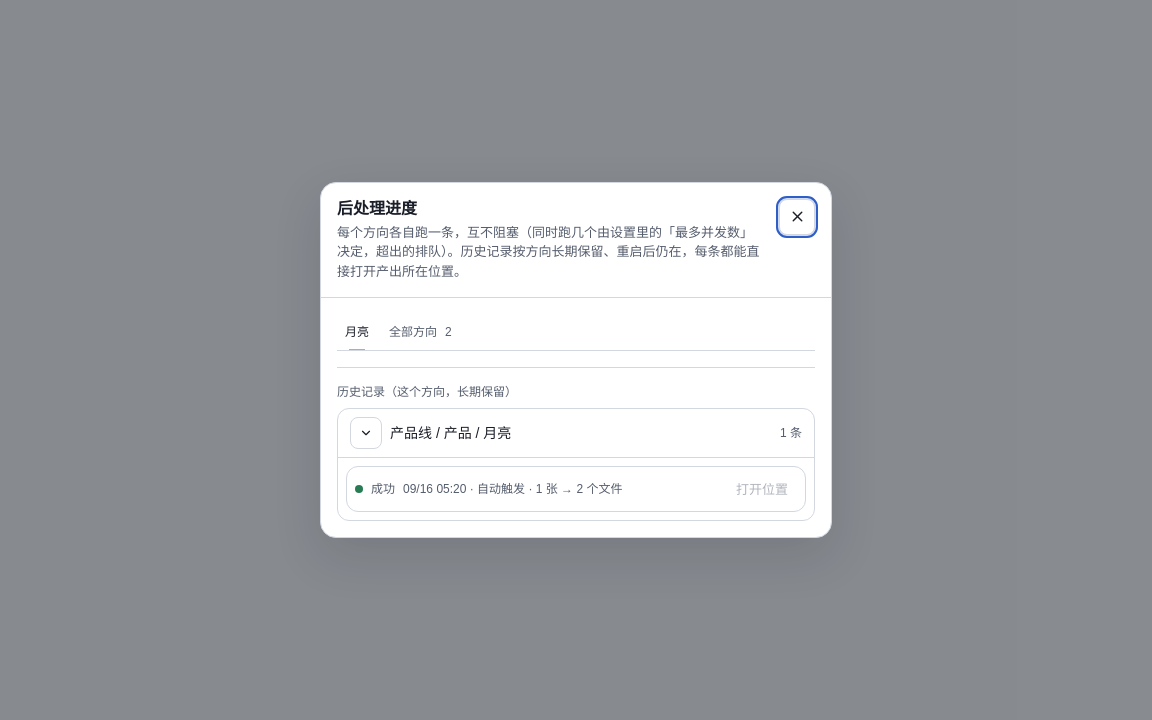
Test: 后处理进度面板 › ⭐ 从某个方向打开时默认停在它的标签页，只看它的记录
Check: the tab "月亮" is shown, box [337,314,377,350]
Click the tab "全部方向 2".
click(420, 332)  # box [381,314,460,350]
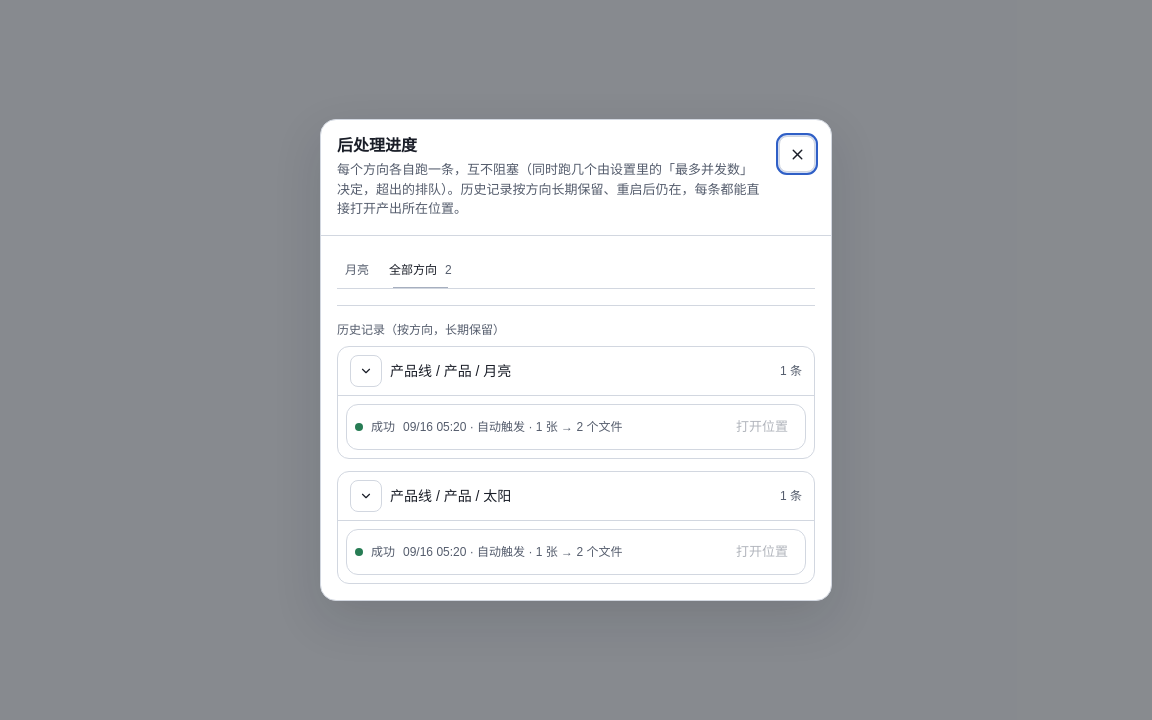
Check: the text "太阳" is shown, box [390,488,511,504]
